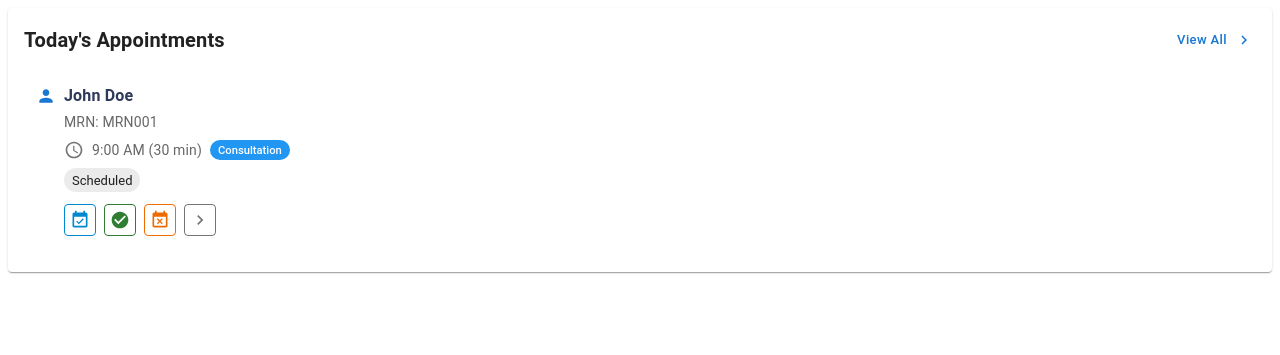
it: TodayAppointments › displays error when status update fails
Expected: the text "John Doe" is shown, [64,84,133,108]
Click the 2nd button: (80, 220) [64,204,96,236]
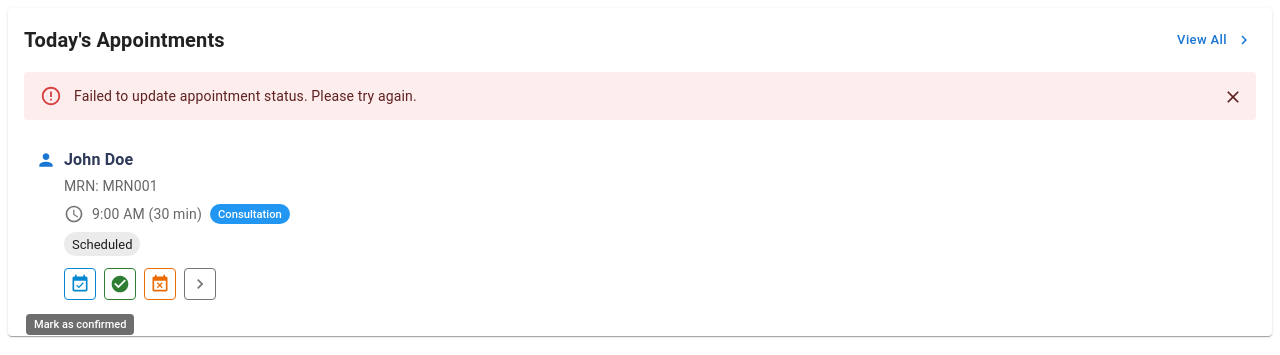
Expected: the text "Failed to update appointment status. Please try again." is shown, [74,88,417,104]
